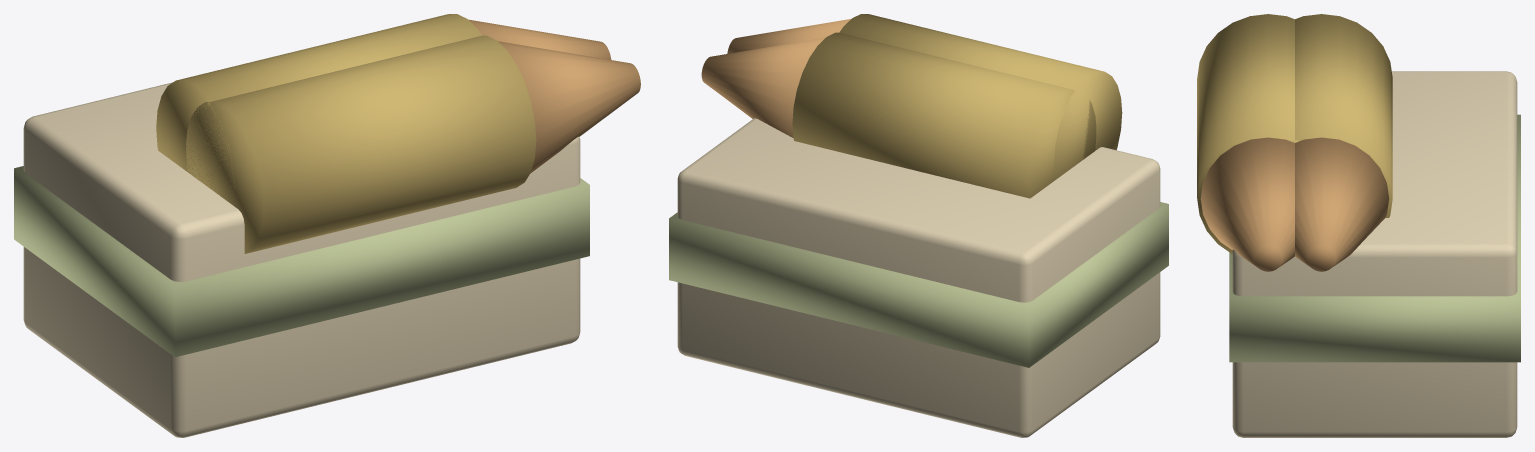
File: SM_Ammo_40mm.glb
The picture shows the model from 3 angles, left to right: view 1: azimuth 30°, elevation 25°; view 2: azimuth 150°, elevation 25°; view 3: azimuth 270°, elevation 25°; orthographic projection. The views are drawn at different scales.
Visible parts, largest first — view 1: SM_Ammo_40mm; view 2: SM_Ammo_40mm; view 3: SM_Ammo_40mm.
Boxes of the visible parts, x1,y1,x2,y2 form: SM_Ammo_40mm: (14, 14, 640, 437); SM_Ammo_40mm: (669, 14, 1168, 437); SM_Ammo_40mm: (1197, 14, 1520, 437).
Bounding box in the file's own units: 0.141 × 0.086 × 0.091.
